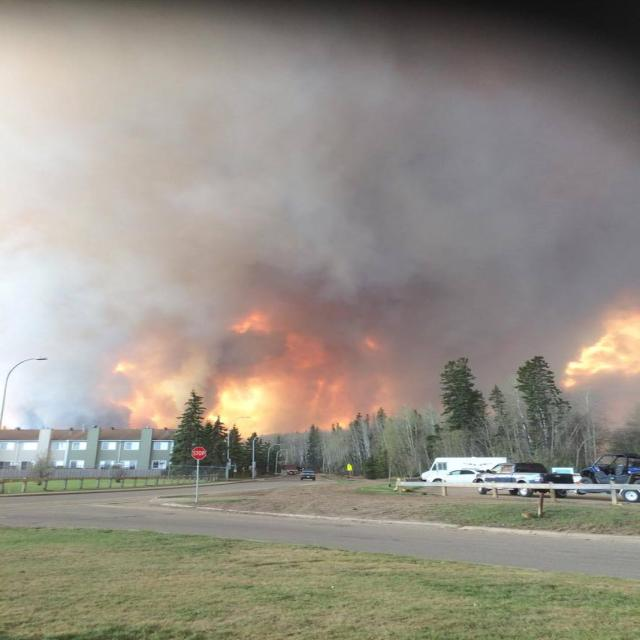Fire: (117, 299, 640, 444)
Smoke: (0, 0, 640, 402)
